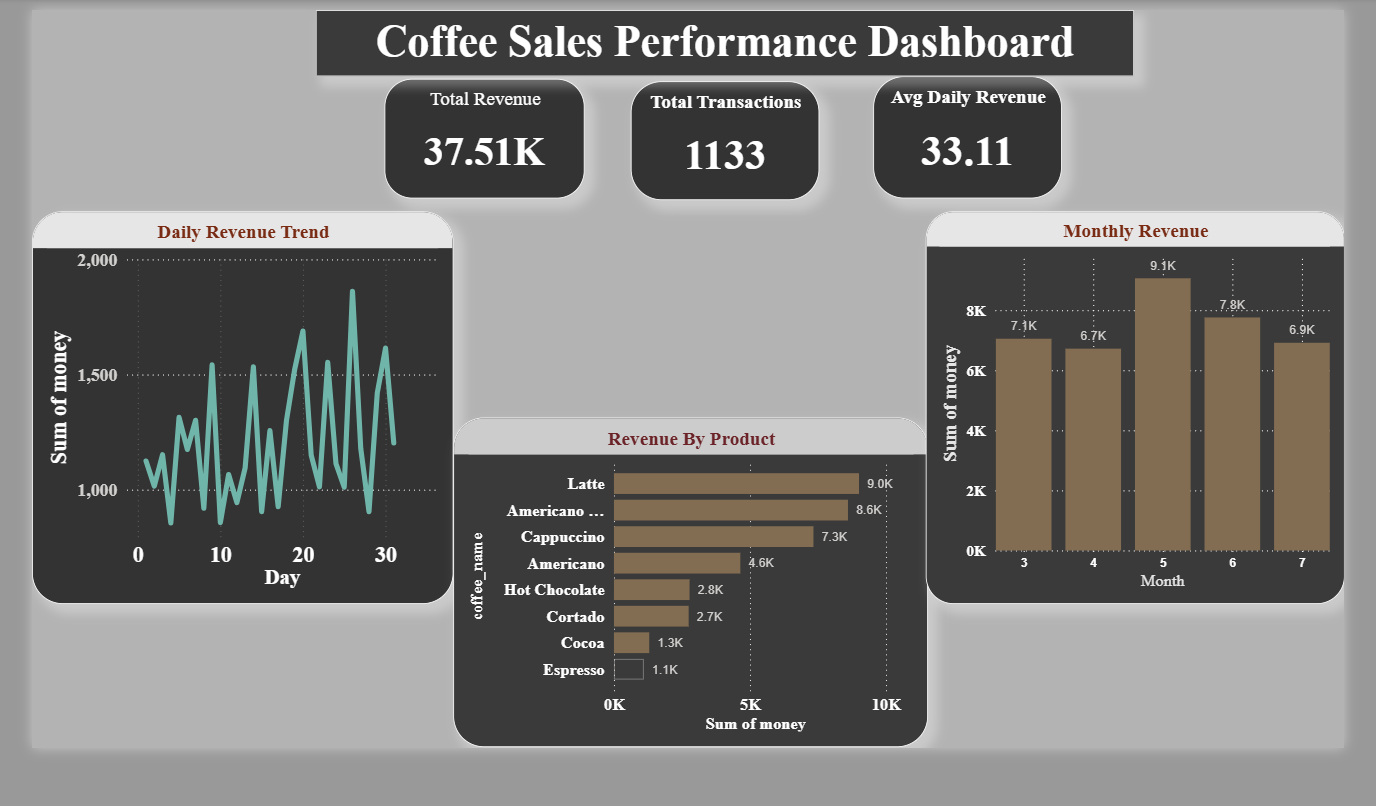

Layout of this report page (visuals, bound fields, positions):
{"tool":"powerbi","page":{"name":"Page 1","canvas":[1280,720],"ordinal":0},"visuals":[{"type":"card","title":"Total Revenue","fields":{"Values":["Sum(index.money)"]},"box":[343.9,67.1,195.1,117.1],"z":0},{"type":"card","title":"Total Transactions","fields":{"Values":["CountNonNull(index.date)"]},"box":[584.1,69.5,184.1,115.9],"z":1000},{"type":"card","title":"Avg Daily Revenue","fields":{"Values":["Avg(index.money)"]},"box":[820.7,64.6,184.1,119.5],"z":2000},{"type":"lineChart","title":"Daily Revenue Trend","fields":{"Category":["index.date.Variation.Date Hierarchy.Day"],"Y":["Sum(index.money)"]},"box":[0,196.3,411,382.9],"z":3000},{"type":"barChart","title":"Revenue By Product","fields":{"Category":["index.coffee_name"],"Y":["Sum(index.money)"]},"box":[411,397.6,463.4,322],"z":4000},{"type":"columnChart","title":"Monthly Revenue","fields":{"Category":["index.Month"],"Y":["Sum(index.money)"]},"box":[872,196.3,408.5,382.9],"z":5000},{"type":"textbox","box":[276.8,0,798.8,64.6],"z":6000}]}

Visuals, with their boxes in screenshot pixels (x1, y1, x2, y2):
"Total Revenue" card: <bbox>380, 76, 580, 196</bbox>
"Total Transactions" card: <bbox>626, 78, 814, 197</bbox>
"Avg Daily Revenue" card: <bbox>868, 73, 1056, 195</bbox>
"Daily Revenue Trend" lineChart: <bbox>29, 208, 449, 599</bbox>
"Revenue By Product" barChart: <bbox>449, 414, 923, 743</bbox>
"Monthly Revenue" columnChart: <bbox>920, 208, 1338, 599</bbox>
textbox: <bbox>312, 7, 1129, 73</bbox>
